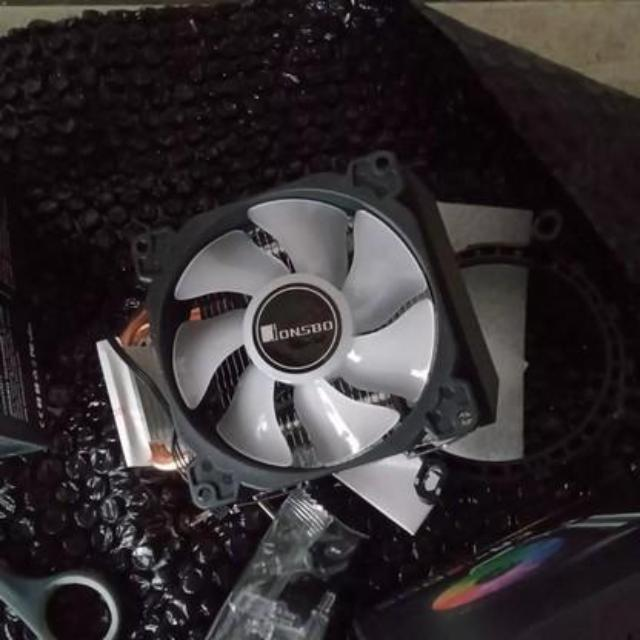CPU_Fan: (99, 148, 482, 516)
